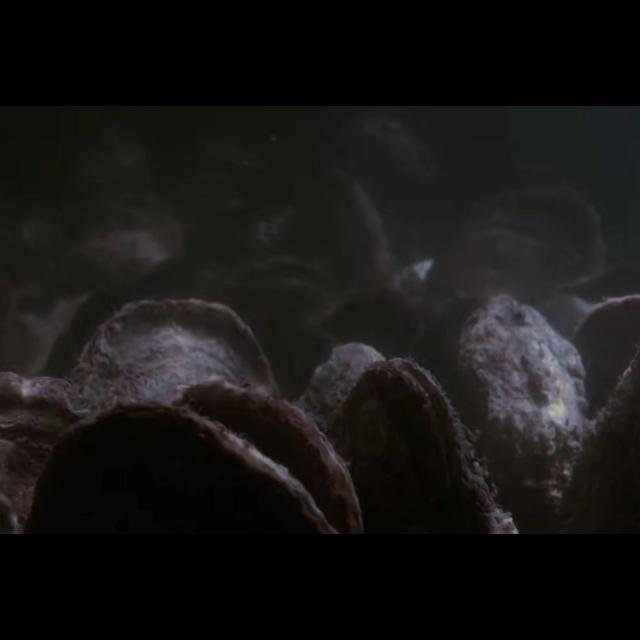Oyster-Closed: (29, 402, 339, 534), (166, 380, 364, 534), (0, 370, 100, 534)
Oyster-Indeterminate: (68, 298, 280, 534), (453, 294, 593, 534), (421, 186, 609, 330), (294, 343, 388, 534), (286, 165, 396, 301), (61, 198, 189, 284), (572, 294, 640, 444)
Oyster-Open: (327, 357, 517, 535), (219, 252, 339, 322)
